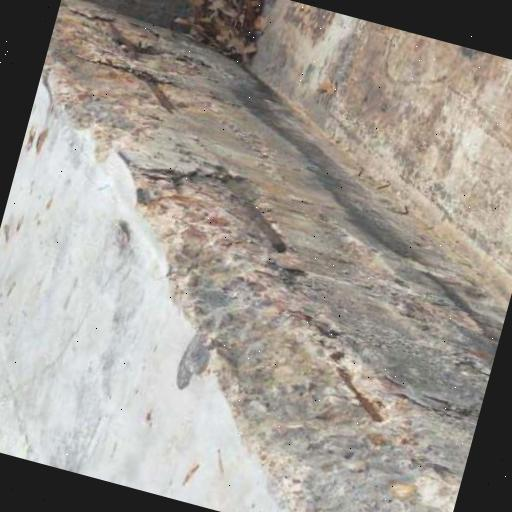spalling: (129, 174, 460, 512), (46, 2, 202, 159)
